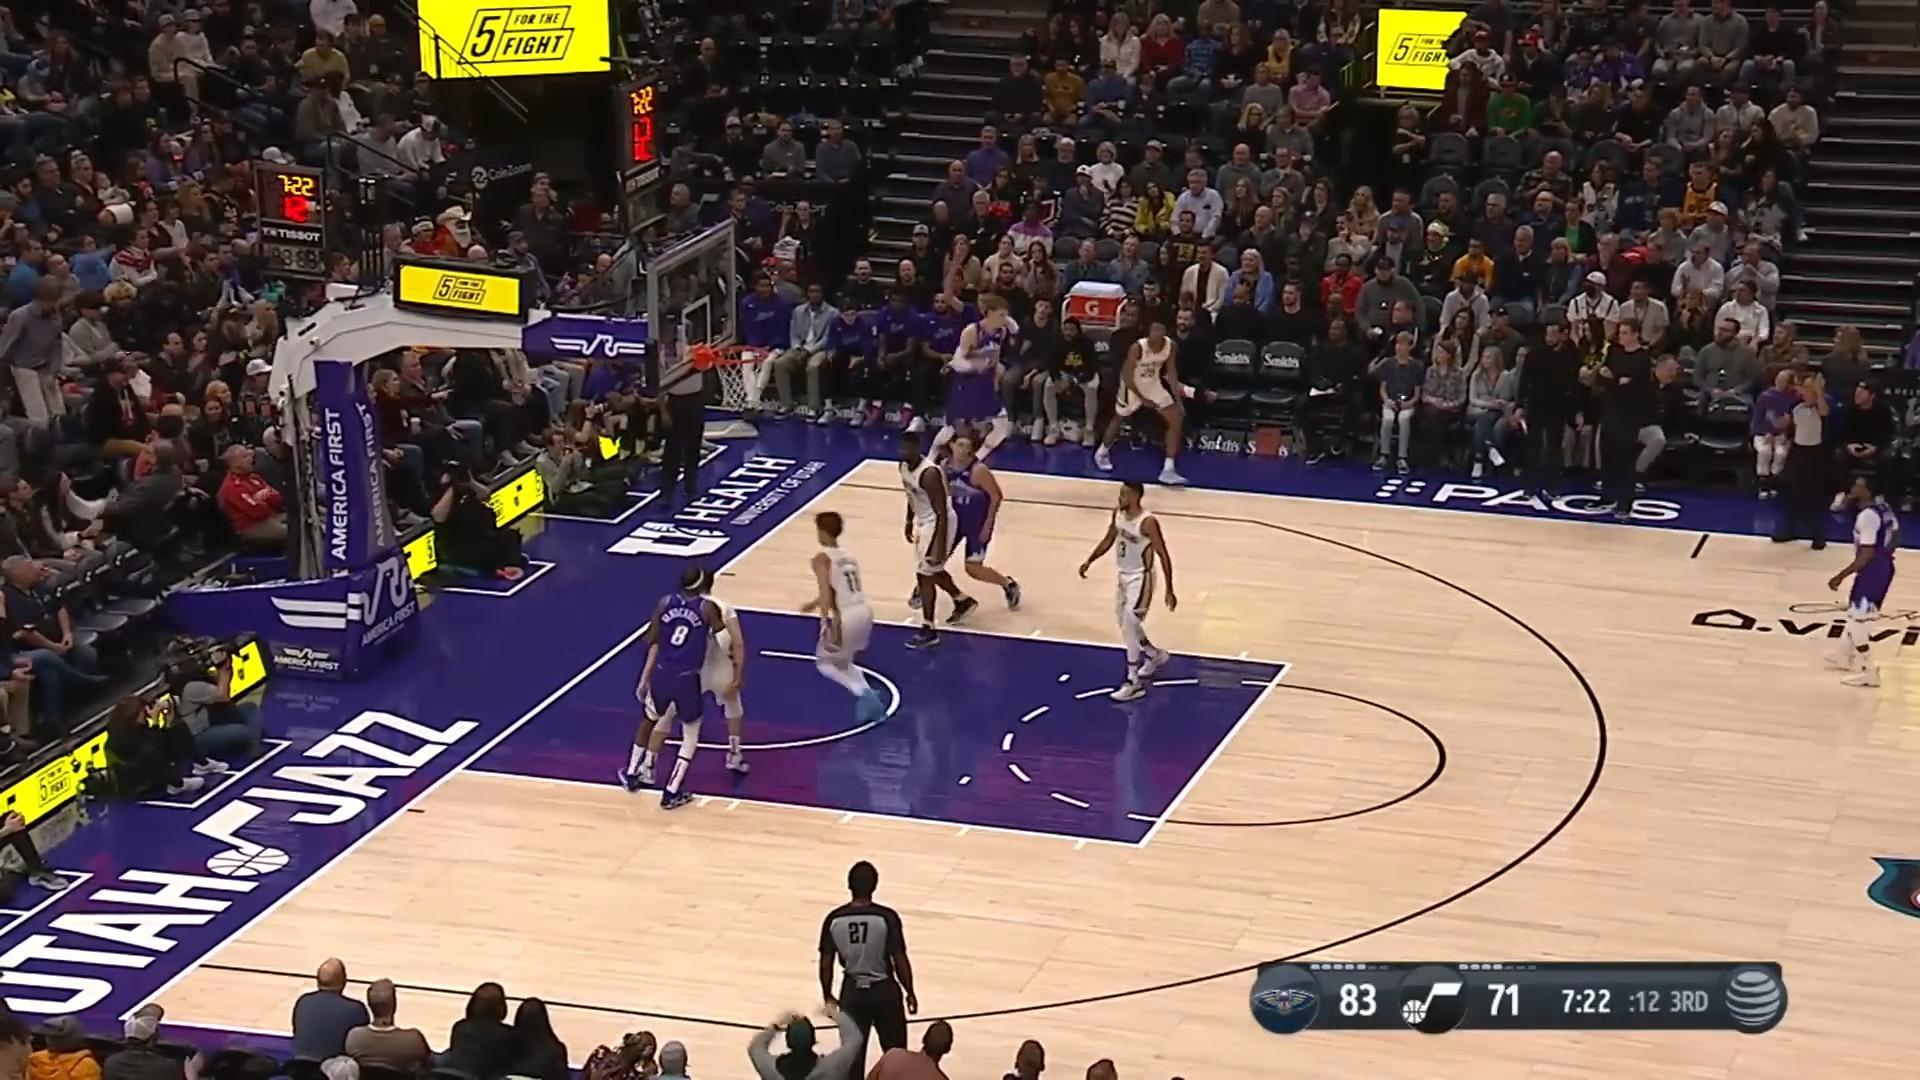basketball-player: (1073, 478, 1195, 704), (637, 564, 757, 793), (810, 853, 929, 1076), (615, 561, 709, 816), (797, 508, 895, 734), (911, 425, 1022, 617), (889, 428, 978, 654), (1093, 318, 1197, 488), (935, 287, 1022, 472)
